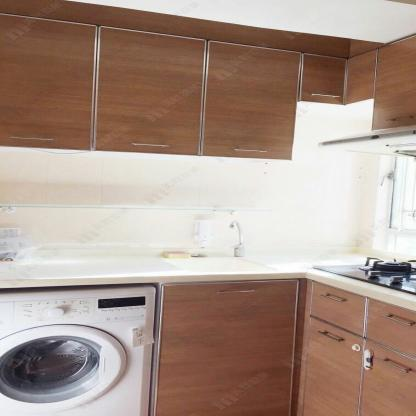Cupboard: (3, 11, 415, 162), (147, 280, 415, 415)
Exhaust Hood: (316, 126, 415, 160)
Stove: (318, 254, 415, 293)
Washing Machine: (0, 283, 156, 416)
